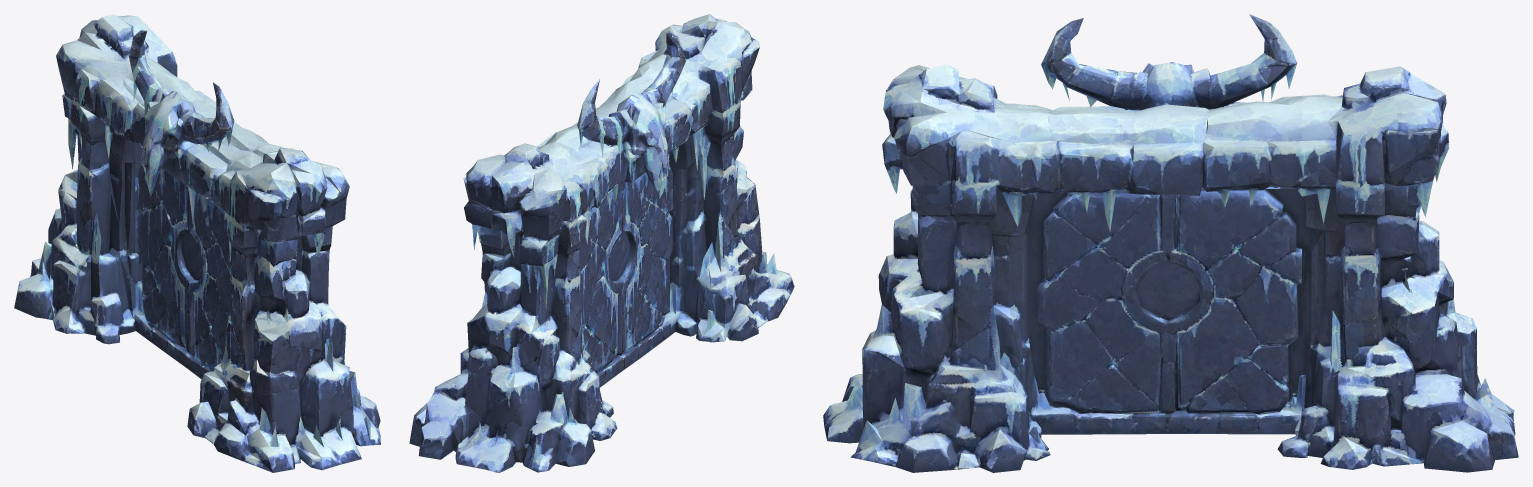
The model's file is boss_door_frozen_shore.glb.
3 renders of one model, left to right at view 1: azimuth 30°, elevation 25°; view 2: azimuth 150°, elevation 25°; view 3: azimuth 270°, elevation 25°, orthographic. The views are drawn at different scales.
Visible parts, largest first — view 1: jamb_p, jamb_n, slab, lintel; view 2: jamb_n, jamb_p, slab, lintel; view 3: slab, jamb_p, jamb_n, lintel.
Part boxes in pixels (x1=…): jamb_p: x1=187, y1=144, x2=380, y2=472; jamb_n: x1=14, y1=14, x2=177, y2=335; slab: x1=126, y1=164, x2=232, y2=379; lintel: x1=96, y1=30, x2=274, y2=344; jamb_n: x1=409, y1=143, x2=617, y2=472; jamb_p: x1=627, y1=14, x2=794, y2=341; slab: x1=580, y1=164, x2=684, y2=387; lintel: x1=537, y1=31, x2=724, y2=417; slab: x1=1036, y1=185, x2=1301, y2=434; jamb_p: x1=823, y1=64, x2=1036, y2=472; jamb_n: x1=1302, y1=66, x2=1518, y2=472; lintel: x1=1036, y1=14, x2=1301, y2=460.
Bounding box in the file's own units: 2.21 × 4.22 × 6.68.
Materials: 1 (1 with a texture image).
